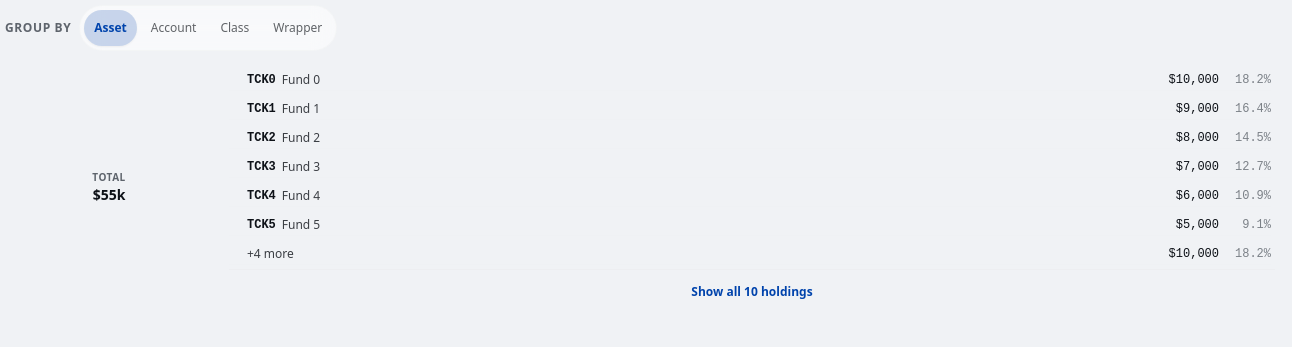
HoldingsAllocation Component › renders and toggles Show all holdings button when more than 7 holdings exist
This screenshot has width=1292, height=347.
Note: Click to expand
Click the button "Show all 10 holdings": [752, 292] box [229, 280, 1275, 304]
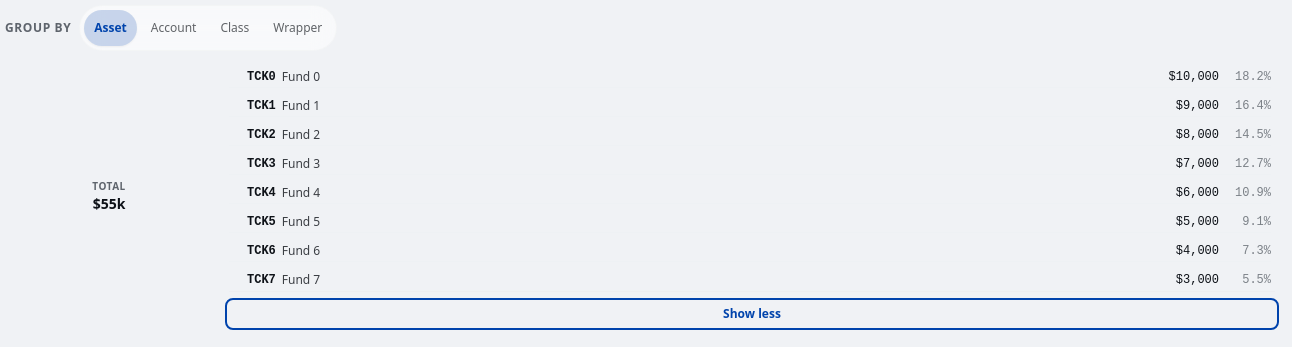
expect the button "Show less" is shown: met
Note: Click to collapse back
Click the button "Show less": [752, 314] box [229, 302, 1275, 326]
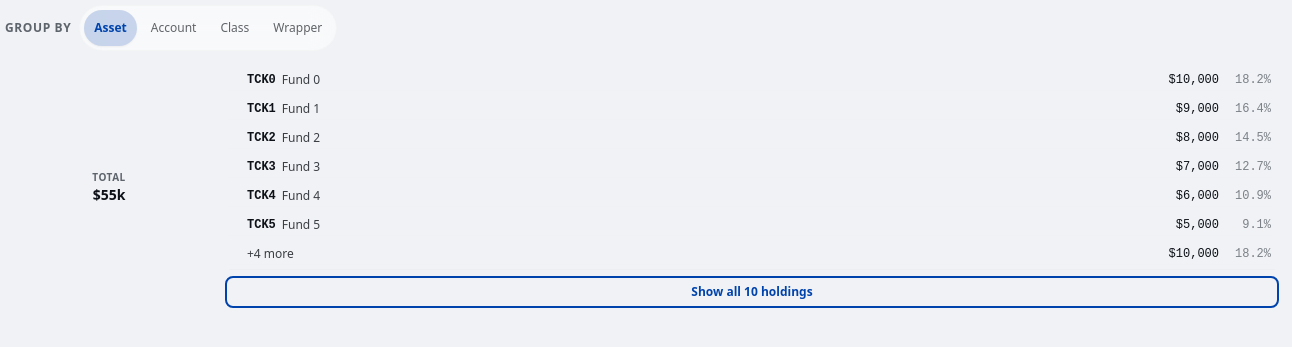
expect the button "Show all 10 holdings" is shown: met, box [229, 280, 1275, 304]
